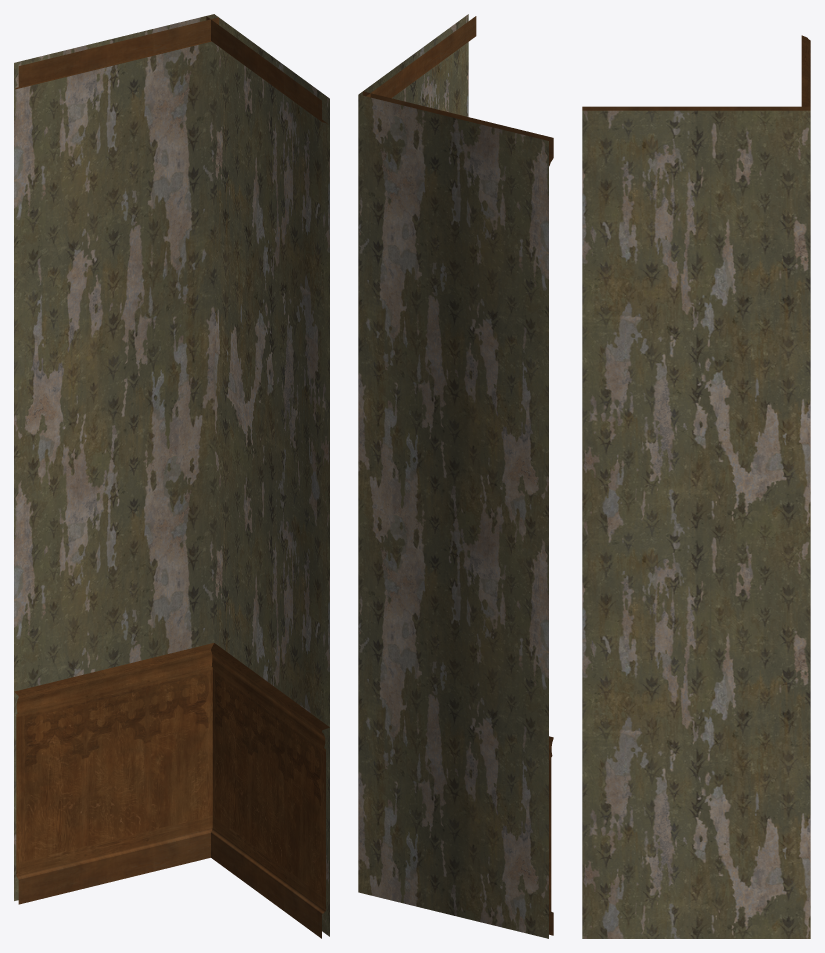
Rendered from SM_Wall_Paper_02 1.fbx.
The picture shows the model from 3 angles, left to right: view 1: azimuth 30°, elevation 25°; view 2: azimuth 150°, elevation 25°; view 3: azimuth 270°, elevation 25°; orthographic projection. The views are drawn at different scales.
Parts seen in each view (by area): view 1: SM_Wall_Paper_02; view 2: SM_Wall_Paper_02; view 3: SM_Wall_Paper_02.
Boxes of the visible parts, left/top/right/bottom form: SM_Wall_Paper_02: left=14, top=14, right=329, bottom=938; SM_Wall_Paper_02: left=358, top=14, right=553, bottom=938; SM_Wall_Paper_02: left=582, top=35, right=810, bottom=938.
Size of the model in its own units: 100 by 400 by 100.
